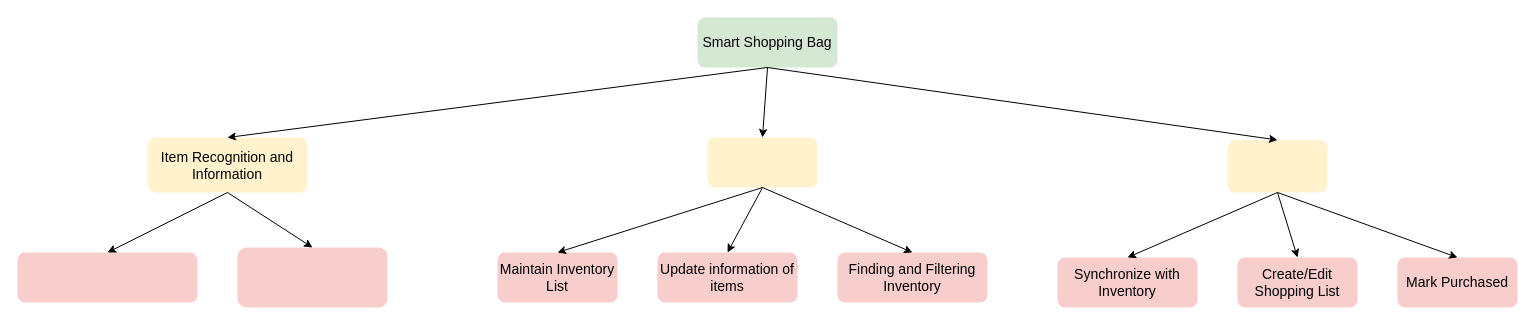
Some shapes in this 1534 by 324 pixel diagram are drawn without their labels. Each missing label, with the centre of its shape:
Automatic (Manual) Product Information Retrieval: point (312, 277)
Automatic Item Detection and Recognition: point (107, 277)
Food Inventory Management: point (762, 162)
Shopping List Management: point (1277, 166)
